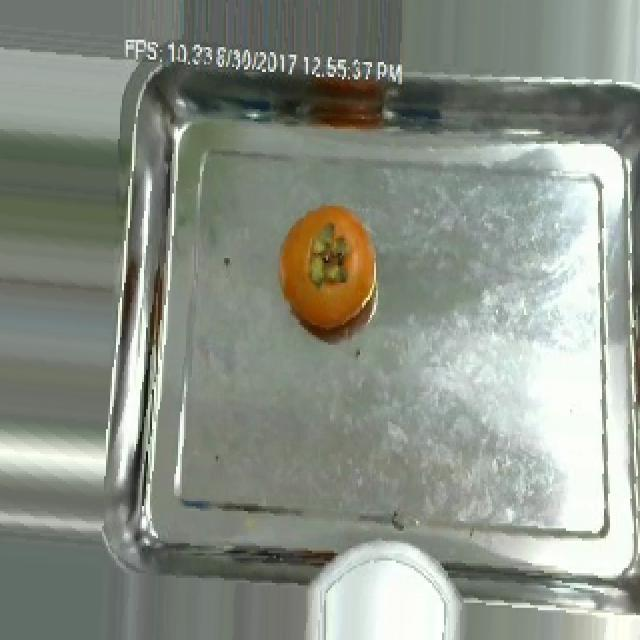Fruit: (272, 198, 380, 332)
